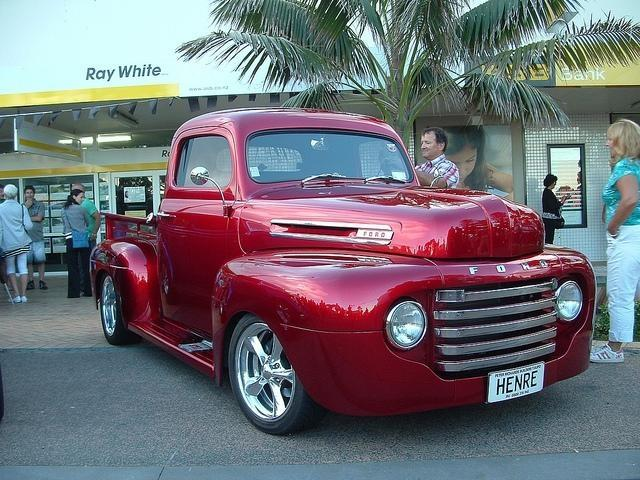truck: (88, 107, 597, 435)
